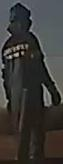gloves: (45, 82, 61, 108)
vest: (2, 33, 45, 108)
